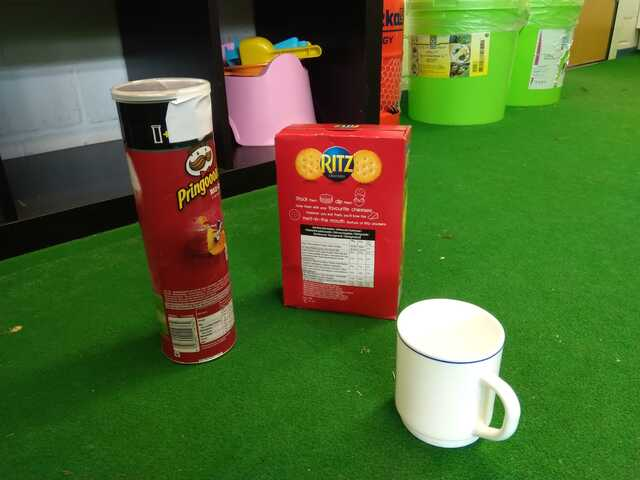001_chips_can: (109, 76, 247, 368)
003_cracker_box: (271, 120, 413, 319)
025_mug: (394, 296, 527, 450)
